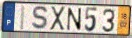3: (102, 8, 116, 34)
5: (84, 7, 100, 34)
I: (18, 4, 27, 31)
N: (67, 7, 83, 32)
S: (31, 5, 50, 32)
X: (50, 6, 66, 32)
